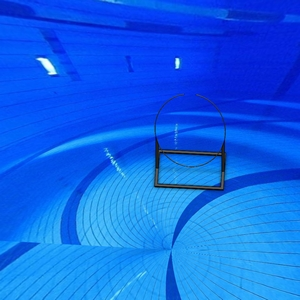circle: (153, 92, 227, 193)
